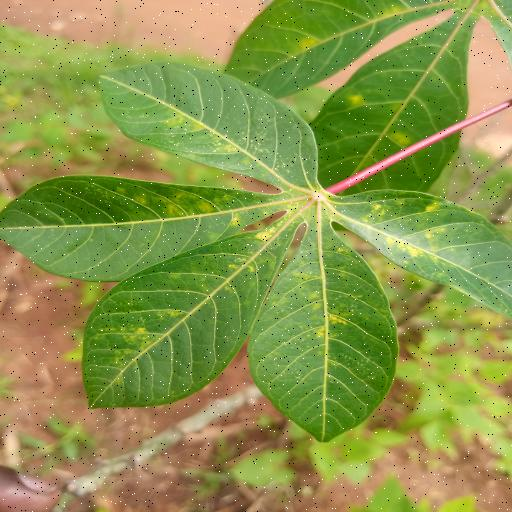Cassava_Mosaic: (5, 52, 512, 450)
